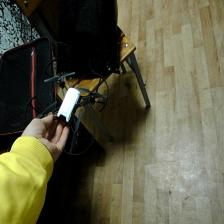drone: (23, 54, 117, 163)
